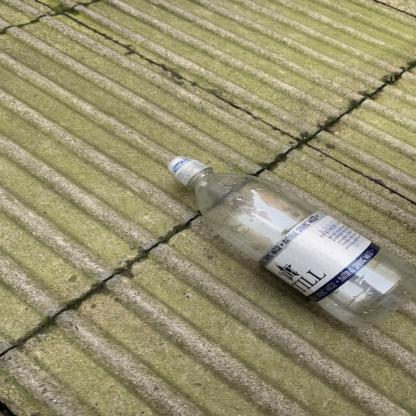trash: (167, 156, 416, 329)
